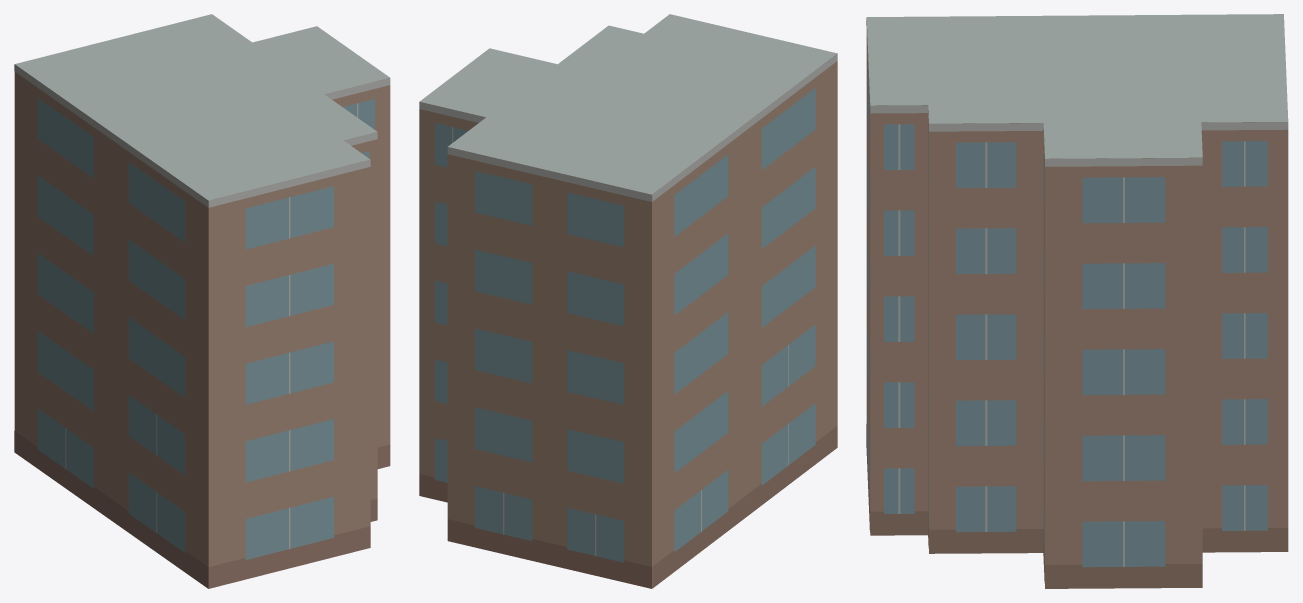
Rendered from survey-upis-33013086.glb.
The picture shows the model from 3 angles, left to right: view 1: azimuth 30°, elevation 25°; view 2: azimuth 150°, elevation 25°; view 3: azimuth 270°, elevation 25°; orthographic projection. The views are drawn at different scales.
Visible parts, largest first — view 1: survey-upis-33013086.tmp; view 2: survey-upis-33013086.tmp; view 3: survey-upis-33013086.tmp.
Boxes of the visible parts, x1,y1,x2,y2 form: survey-upis-33013086.tmp: (14, 14, 390, 588); survey-upis-33013086.tmp: (419, 14, 837, 588); survey-upis-33013086.tmp: (866, 14, 1288, 588).
Size of the model in its own units: 9.47 by 13.1 by 11.65.
